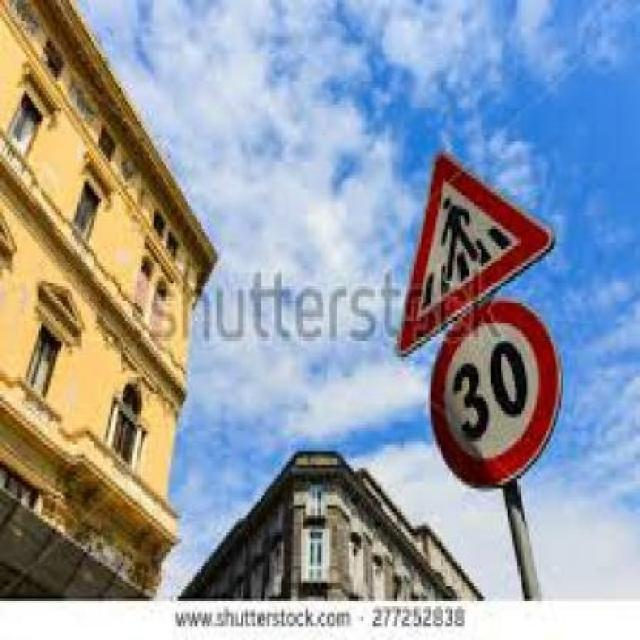forb_speed_over_30: (433, 303, 565, 489)
